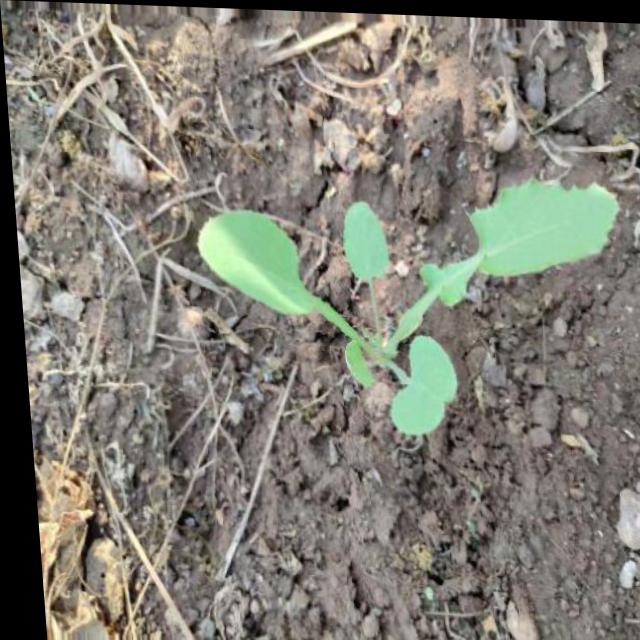weed: (170, 154, 632, 443)
